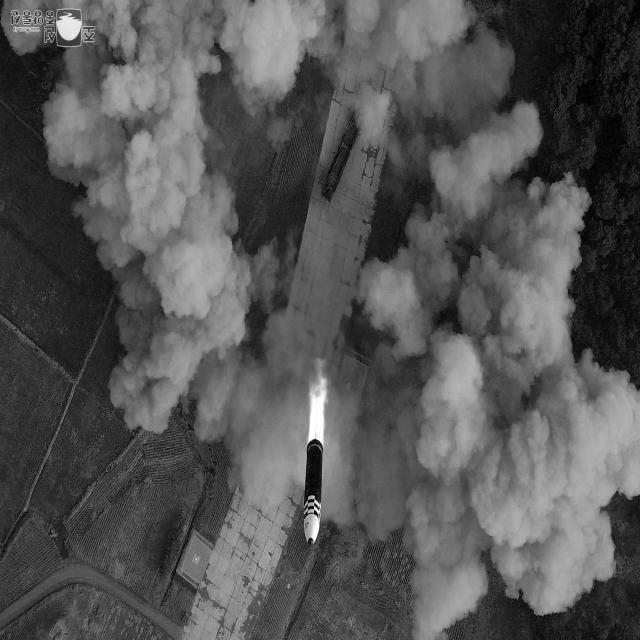Missile: (300, 431, 325, 553)
